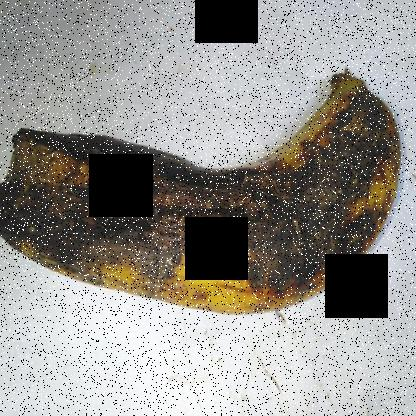rotten: (0, 77, 408, 328)
